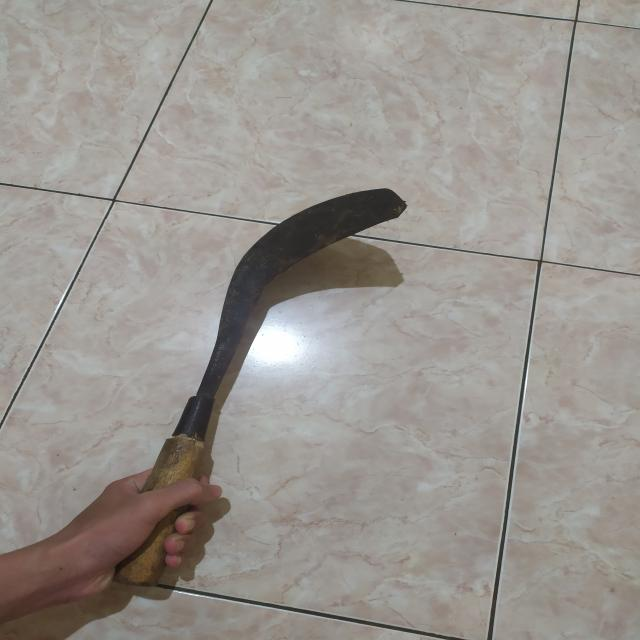Celurit: (112, 185, 408, 590)
